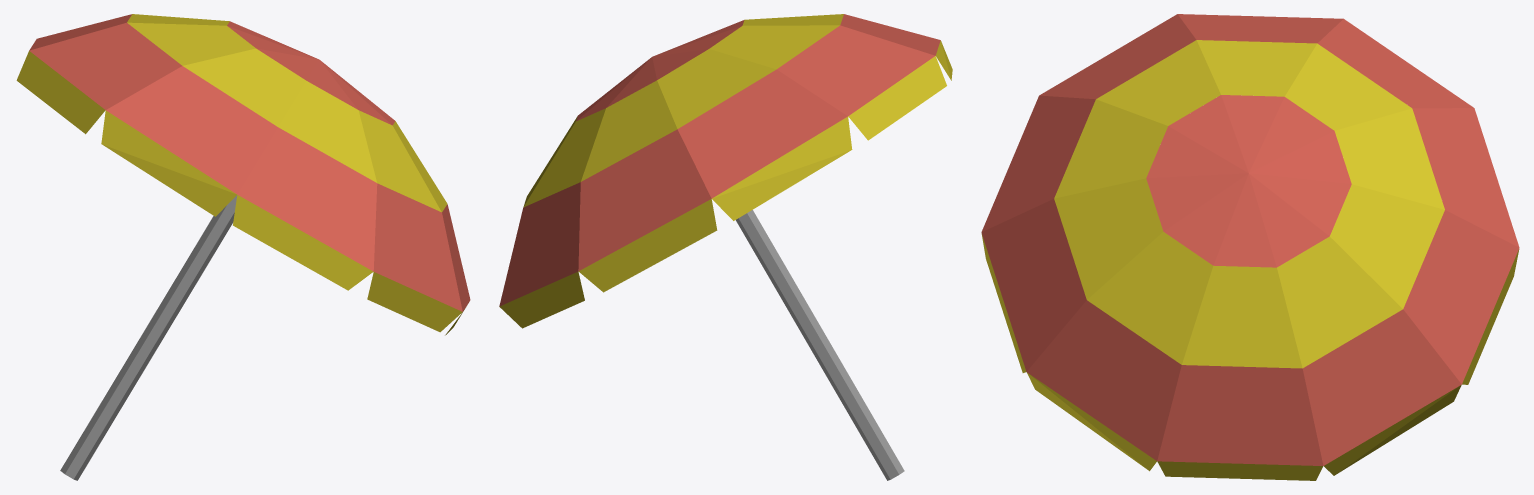
Rendered from beach-umbrella2.glb.
The picture shows the model from 3 angles, left to right: view 1: azimuth 30°, elevation 25°; view 2: azimuth 150°, elevation 25°; view 3: azimuth 270°, elevation 25°; orthographic projection.
Parts seen in each view (by area): view 1: Red-material, Yellow-material, Gray-material; view 2: Red-material, Yellow-material, Gray-material; view 3: Red-material, Yellow-material.
Boxes of the visible parts, x1,y1,x2,y2 form: Red-material: (29, 14, 470, 311); Yellow-material: (16, 14, 465, 335); Gray-material: (60, 195, 237, 480); Red-material: (499, 14, 940, 306); Yellow-material: (499, 14, 952, 328); Gray-material: (736, 210, 904, 480); Red-material: (981, 14, 1519, 465); Yellow-material: (981, 40, 1519, 480).
Bounding box in the file's own units: 12.67 × 13.36 × 15.51.
